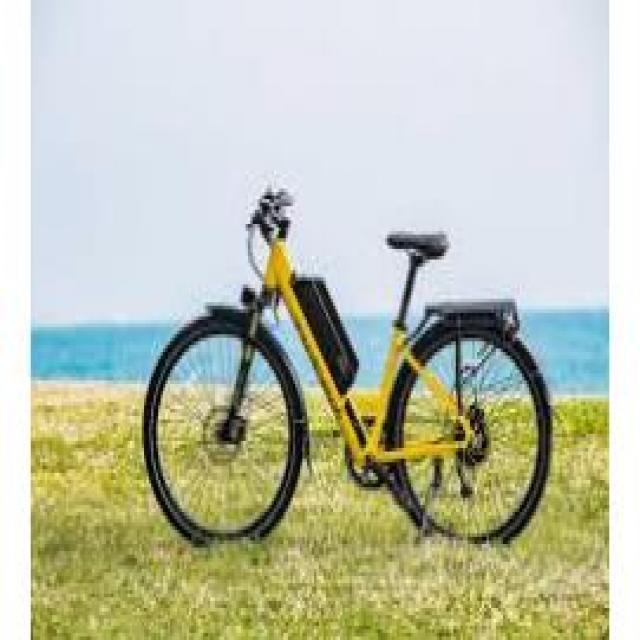bicycle: (157, 211, 554, 549)
